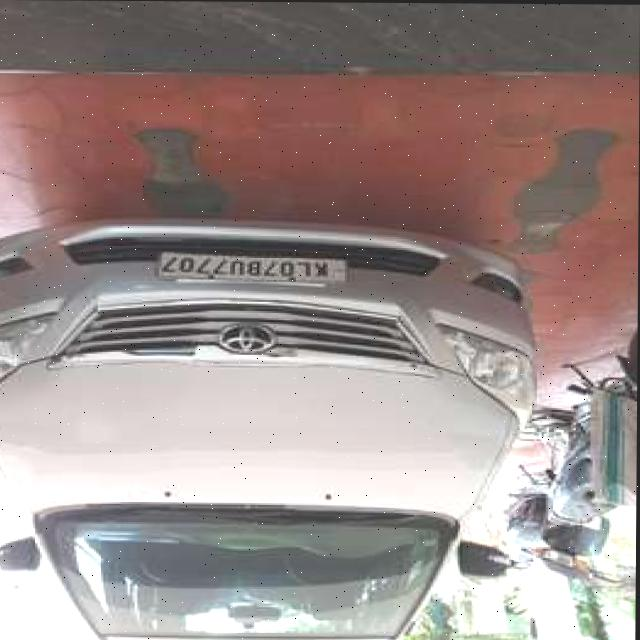plate: (155, 252, 345, 284)
